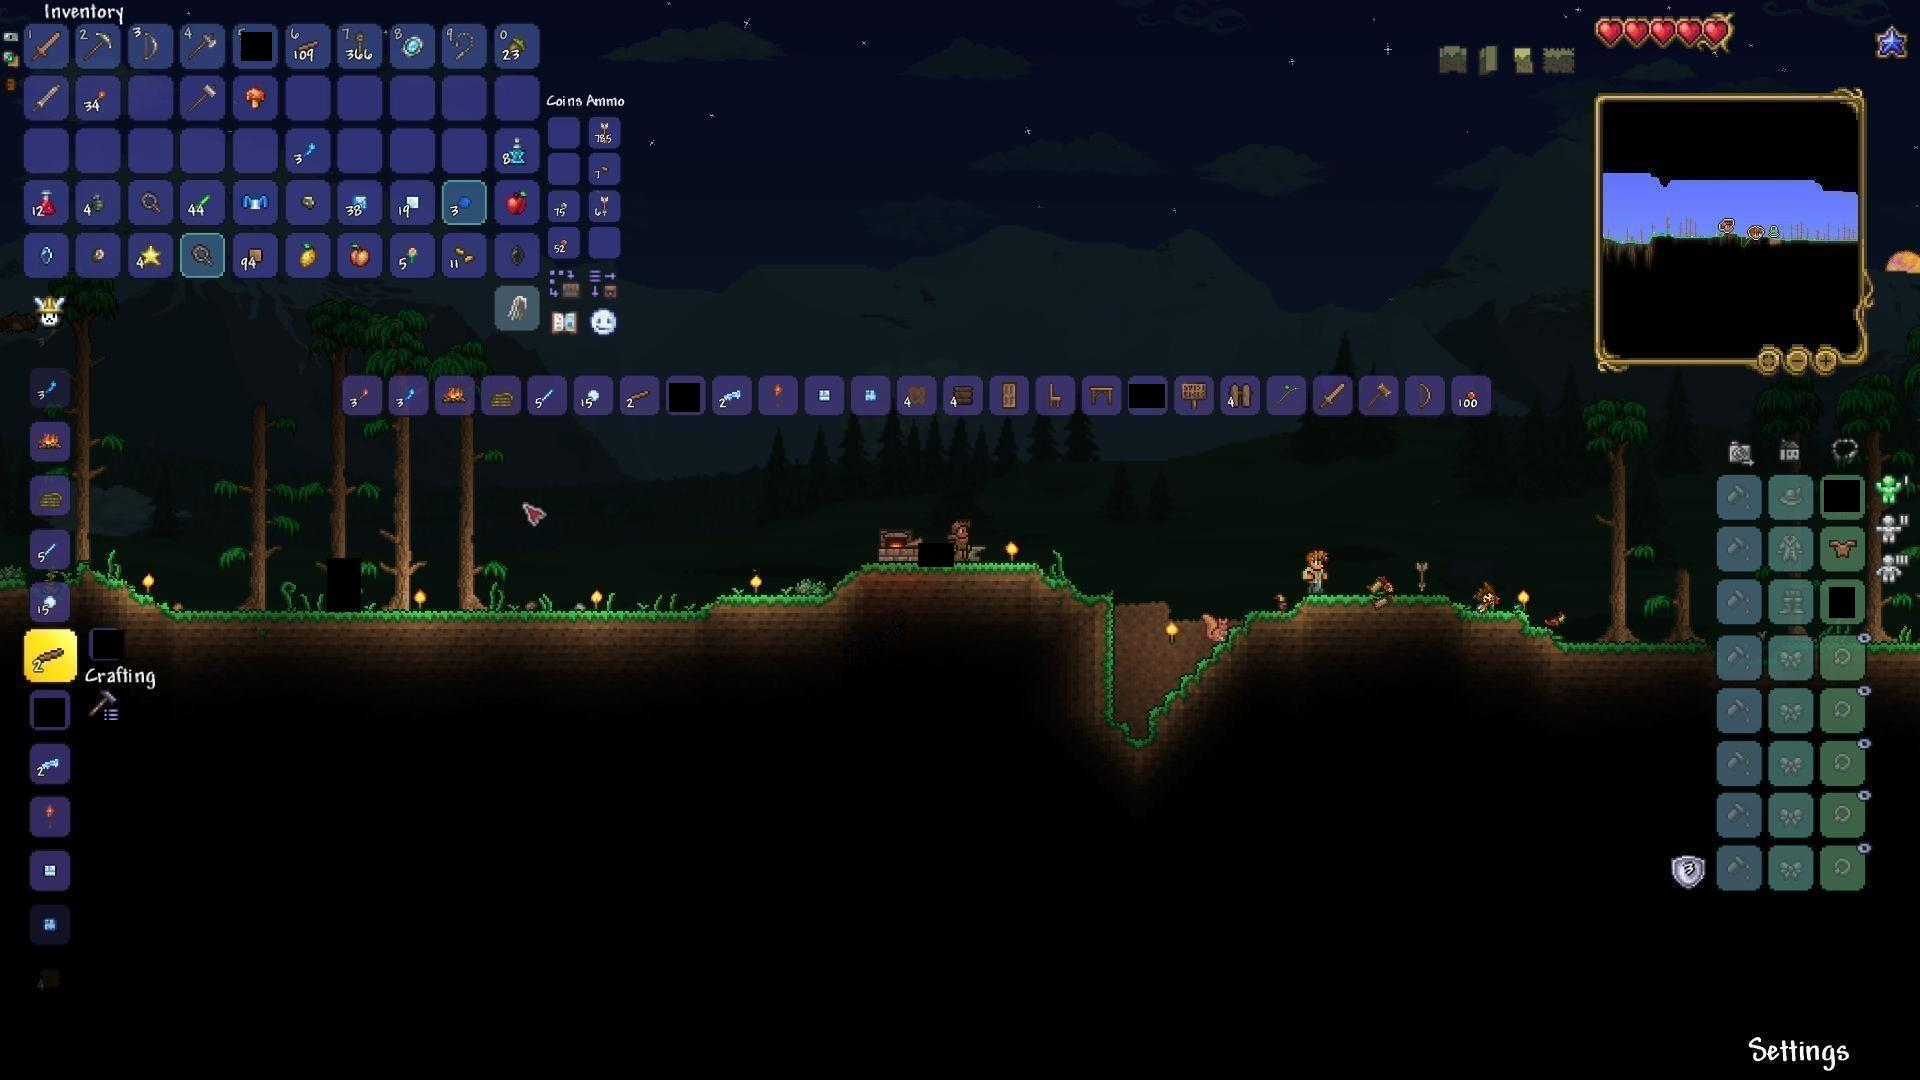breastplate: (1826, 537, 1858, 559)
